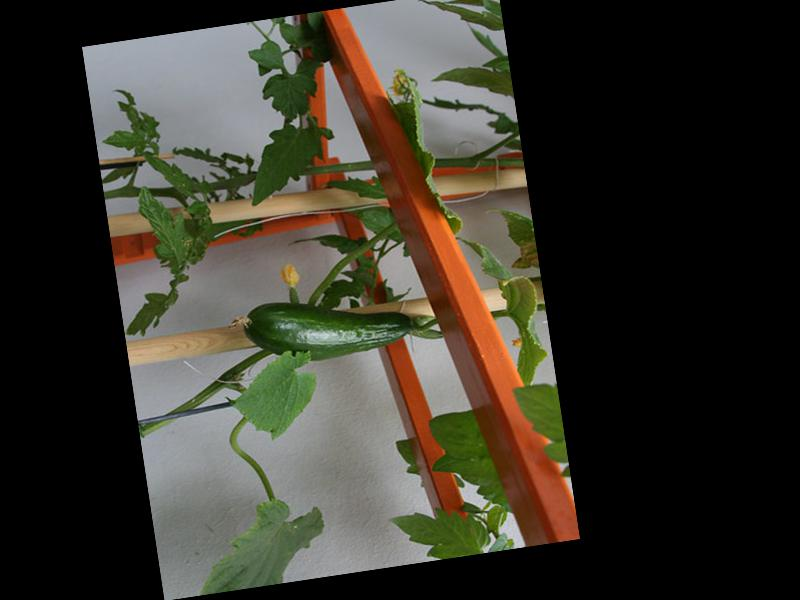Cucumber: (229, 283, 414, 371)
